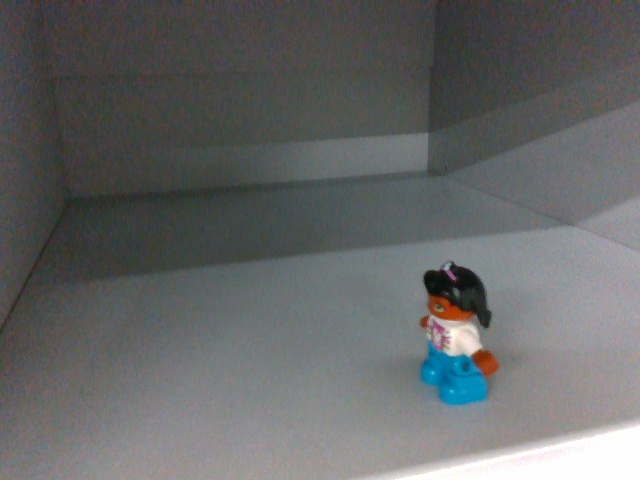people: (416, 261, 501, 409)
